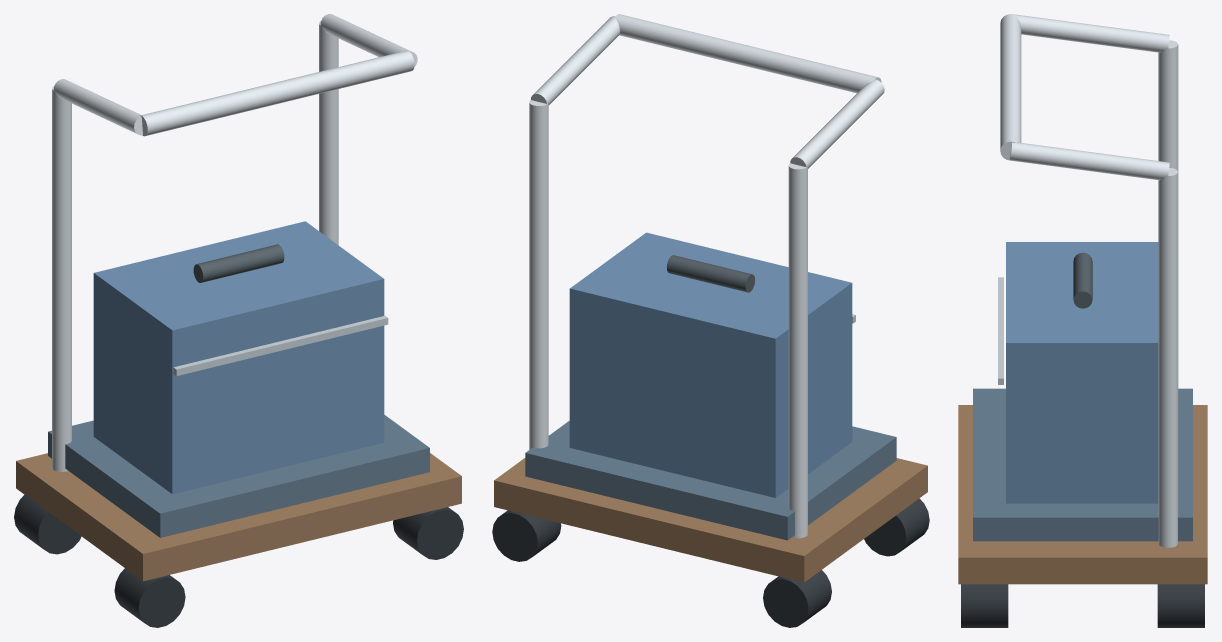
The model's file is luggage_cart01.glb.
3 renders of one model, left to right at view 1: azimuth 30°, elevation 25°; view 2: azimuth 150°, elevation 25°; view 3: azimuth 270°, elevation 25°, orthographic. The views are drawn at different scales.
Parts seen in each view (by area): view 1: suitcase_fabric_blue_6, lower_tray_wood_oiled_1, upper_tray_fabric_dark_2, uprights_chrome_3, casters_rubber_dark_0, top_rail_chrome_5, handle_chrome_4, case_trim_steel_brushed_7, case_handle_plastic_dark_8; view 2: suitcase_fabric_blue_6, lower_tray_wood_oiled_1, upper_tray_fabric_dark_2, uprights_chrome_3, casters_rubber_dark_0, top_rail_chrome_5, handle_chrome_4, case_handle_plastic_dark_8; view 3: suitcase_fabric_blue_6, lower_tray_wood_oiled_1, upper_tray_fabric_dark_2, uprights_chrome_3, handle_chrome_4, casters_rubber_dark_0, top_rail_chrome_5, case_handle_plastic_dark_8, case_trim_steel_brushed_7.
Part boxes in pixels (x1,y1,x2,y2): suitcase_fabric_blue_6: (93, 221, 384, 494); lower_tray_wood_oiled_1: (16, 453, 461, 581); upper_tray_fabric_dark_2: (48, 415, 429, 537); uprights_chrome_3: (52, 21, 338, 471); casters_rubber_dark_0: (14, 494, 463, 627); top_rail_chrome_5: (140, 50, 414, 136); handle_chrome_4: (53, 14, 417, 135); case_trim_steel_brushed_7: (173, 316, 388, 376); case_handle_plastic_dark_8: (193, 244, 284, 282); suitcase_fabric_blue_6: (569, 232, 852, 497); lower_tray_wood_oiled_1: (494, 458, 927, 582); upper_tray_fabric_dark_2: (525, 421, 896, 540); uprights_chrome_3: (529, 100, 807, 538); casters_rubber_dark_0: (492, 498, 929, 627); top_rail_chrome_5: (614, 14, 881, 93); handle_chrome_4: (531, 16, 884, 168); case_handle_plastic_dark_8: (666, 255, 754, 292); suitcase_fabric_blue_6: (1006, 242, 1158, 503); lower_tray_wood_oiled_1: (958, 405, 1207, 584); upper_tray_fabric_dark_2: (973, 388, 1192, 541); uprights_chrome_3: (1158, 40, 1178, 547); handle_chrome_4: (1009, 14, 1169, 180); casters_rubber_dark_0: (961, 584, 1204, 627); top_rail_chrome_5: (1000, 14, 1021, 160); case_handle_plastic_dark_8: (1073, 252, 1092, 308); case_trim_steel_brushed_7: (998, 277, 1003, 384).
Bounding box in the file's own units: 1.12 × 1.62 × 0.76.
